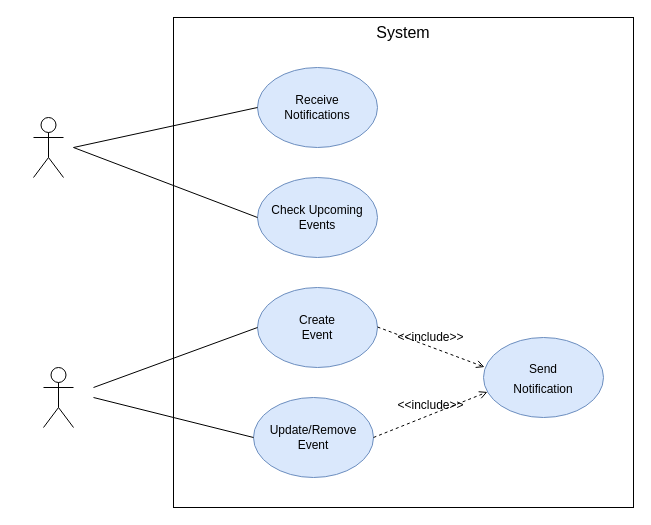
Image size: 651x525. Some labels were removed from this diagram. Here are the shapes that lost their labels. From the top down, the centre of each, then its label:
point 48,147: Student
point 58,397: Event Proposer
